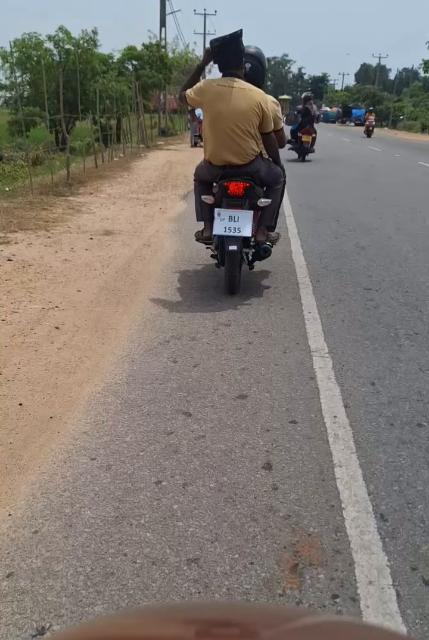no helmet: (209, 41, 253, 93)
number plate: (204, 204, 258, 245)
